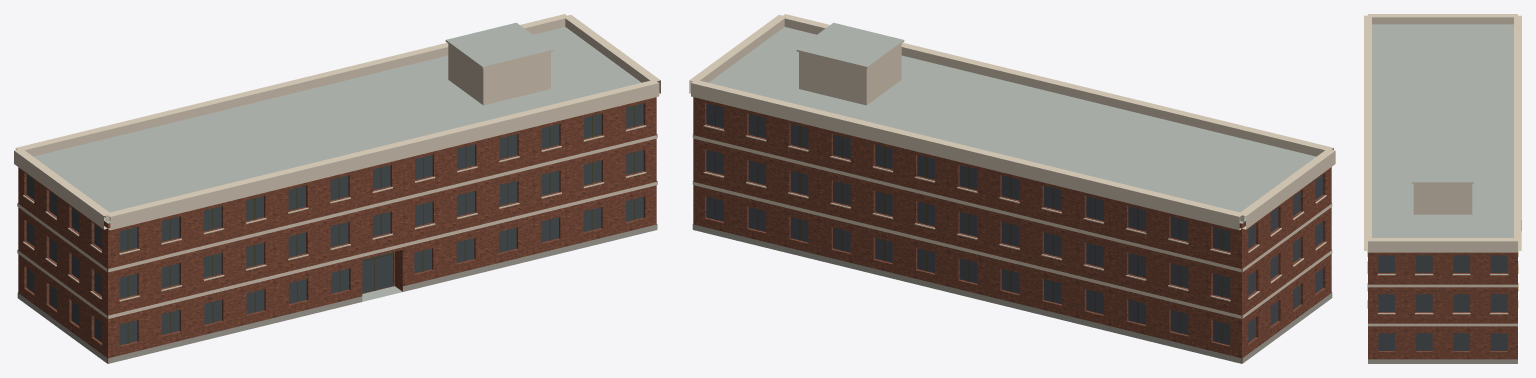
3 renders of one model, left to right at view 1: azimuth 30°, elevation 25°; view 2: azimuth 150°, elevation 25°; view 3: azimuth 270°, elevation 25°, orthographic. The views are drawn at different scales.
Parts seen in each view (by area): view 1: research__wall, research__roof, research__trim, research__glass, research__base, research__frame; view 2: research__wall, research__roof, research__trim, research__glass, research__base, research__frame; view 3: research__roof, research__wall, research__trim, research__glass, research__base.
Boxes of the visible parts, x1,y1,x2,y2 form: research__wall: (18, 97, 656, 363); research__roof: (33, 22, 641, 301); research__trim: (14, 14, 660, 318); research__glass: (26, 103, 643, 345); research__base: (17, 224, 657, 363); research__frame: (127, 105, 634, 343); research__wall: (693, 97, 1331, 363); research__roof: (709, 22, 1315, 363); research__trim: (689, 14, 1335, 318); research__glass: (706, 103, 1322, 345); research__base: (692, 224, 1332, 363); research__frame: (715, 105, 1222, 343); research__roof: (1372, 24, 1513, 237); research__wall: (1368, 252, 1517, 359); research__trim: (1364, 14, 1521, 326); research__glass: (1378, 255, 1507, 350); research__base: (1368, 359, 1517, 363).
Size of the model in its own units: 41.23 by 12.72 by 12.11.
Materials: 7 (1 with a texture image).
